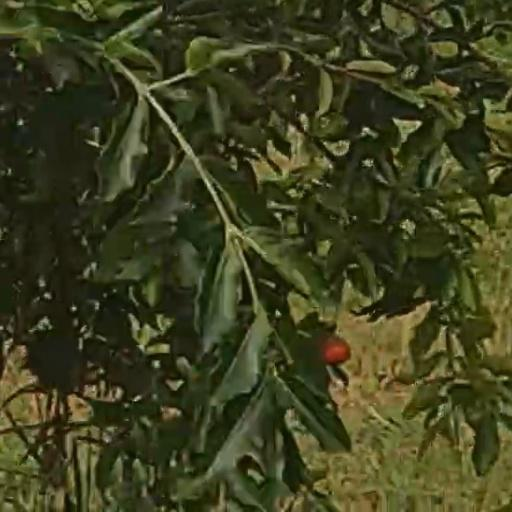acerola: (321, 338, 350, 363)
